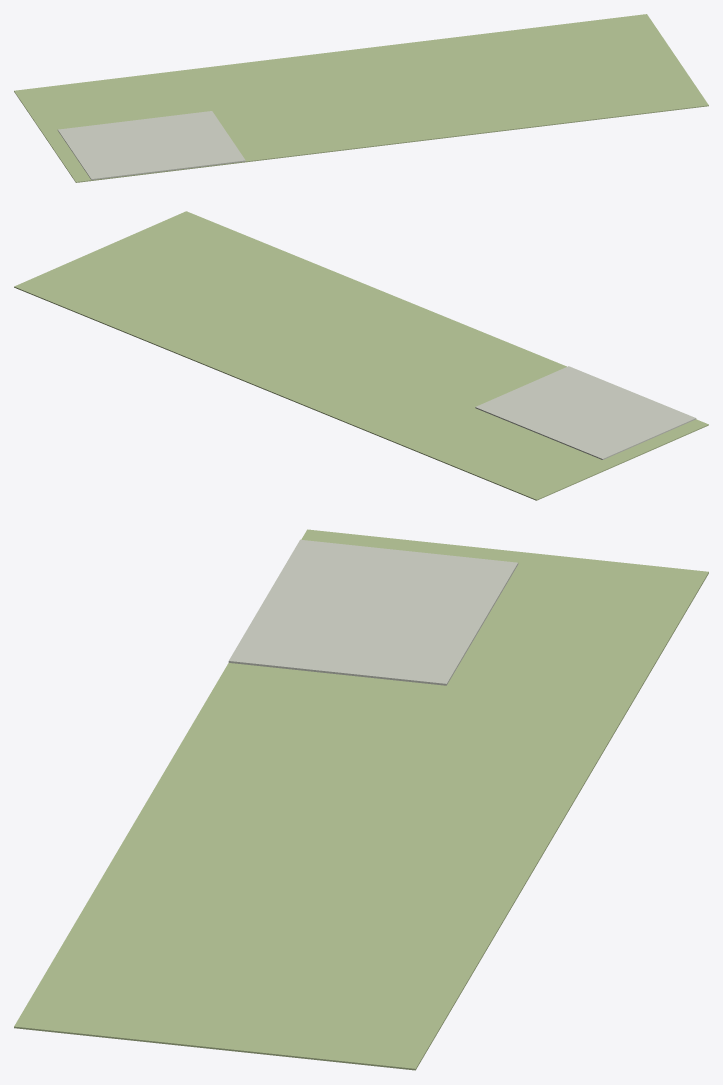
File: Hall_Terrace.glb
3 views of the same model, one above another, from view 1: azimuth 30°, elevation 25°; view 2: azimuth 150°, elevation 25°; view 3: azimuth 270°, elevation 25° (orthographic). The views are drawn at different scales.
Visible parts, largest first — view 1: Hall_Terrace; view 2: Hall_Terrace; view 3: Hall_Terrace.
Part boxes in pixels (x1,y1,x2,y2): Hall_Terrace: (14, 14, 708, 182); Hall_Terrace: (14, 211, 708, 500); Hall_Terrace: (14, 529, 708, 1070).
Size of the model in its own units: 43.17 by 0.13 by 23.5.
